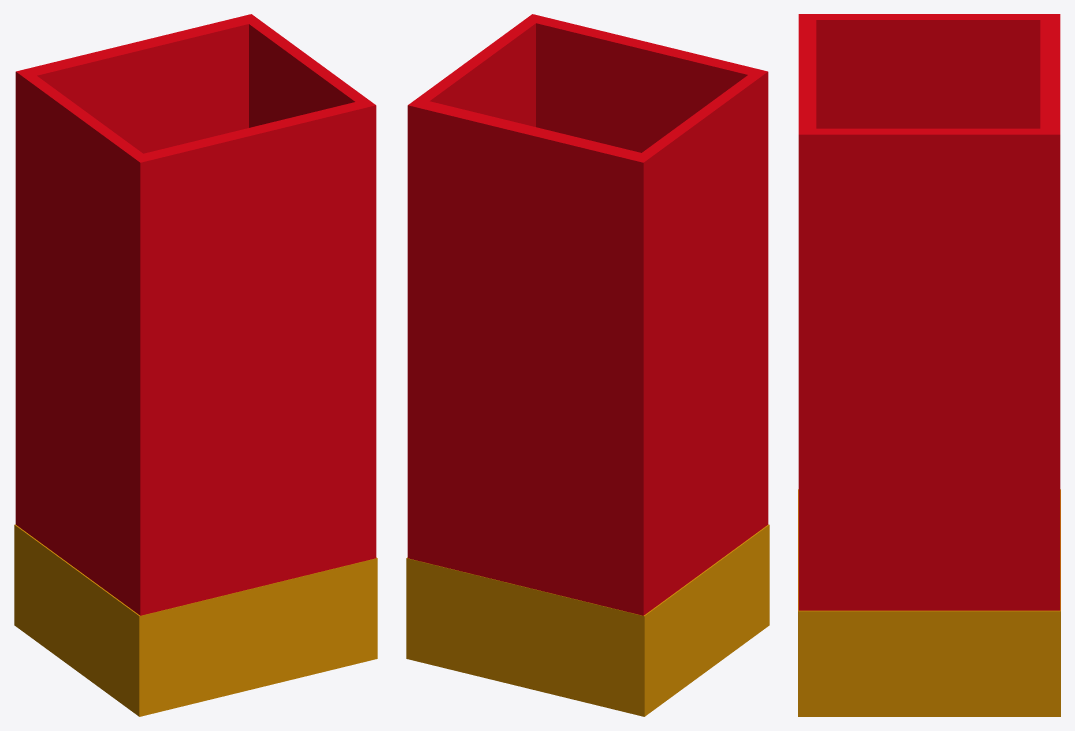
The model's file is shotgun_shell.glb.
3 views of the same model, side by side, from view 1: azimuth 30°, elevation 25°; view 2: azimuth 150°, elevation 25°; view 3: azimuth 270°, elevation 25° (orthographic). The views are drawn at different scales.
Visible parts, largest first — view 1: Cube.021, Cube.023; view 2: Cube.021, Cube.023; view 3: Cube.021, Cube.023.
Part boxes in pixels (x1=…): Cube.021: x1=15, y1=14, x2=376, y2=615; Cube.023: x1=14, y1=524, x2=377, y2=716; Cube.021: x1=407, y1=14, x2=768, y2=615; Cube.023: x1=406, y1=524, x2=769, y2=716; Cube.021: x1=798, y1=14, x2=1060, y2=610; Cube.023: x1=798, y1=489, x2=1060, y2=716.
Size of the model in its own units: 0.2684 by 0.5964 by 0.2443.
